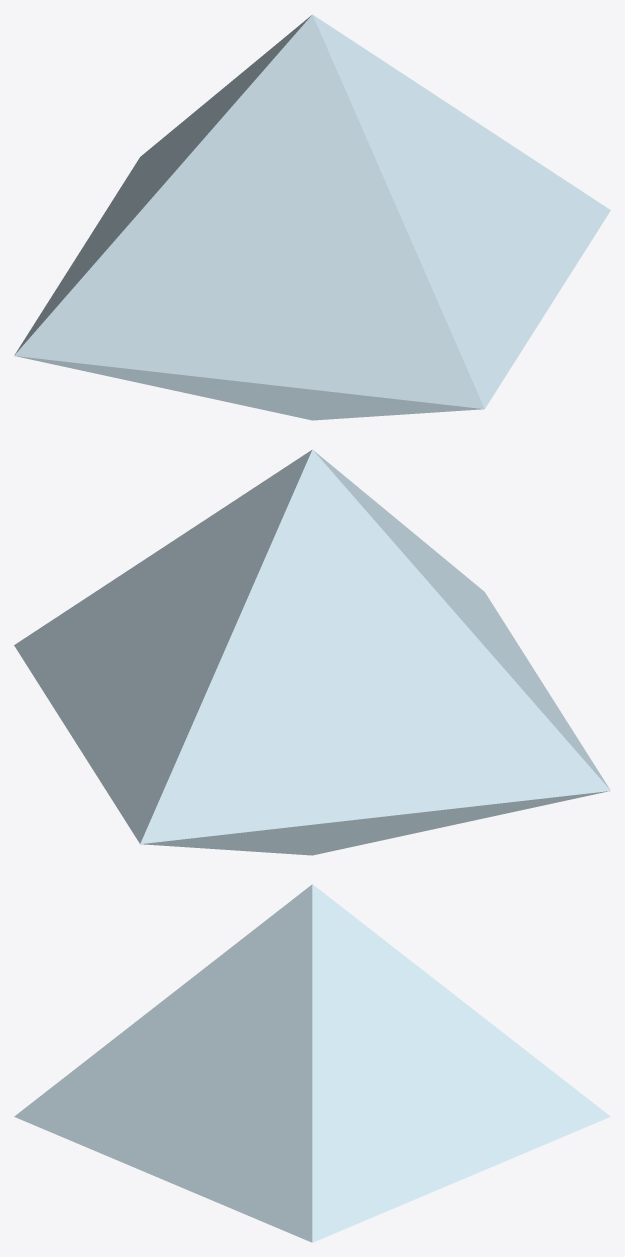
File: traffic-neutral.glb
The picture shows the model from 3 angles, top to bottom: view 1: azimuth 30°, elevation 25°; view 2: azimuth 150°, elevation 25°; view 3: azimuth 270°, elevation 25°; orthographic projection. The views are drawn at different scales.
Parts seen in each view (by area): view 1: traffic-neutral; view 2: traffic-neutral; view 3: traffic-neutral.
Boxes of the visible parts, x1,y1,x2,y2 form: traffic-neutral: (14, 14, 610, 420); traffic-neutral: (14, 449, 610, 855); traffic-neutral: (14, 884, 610, 1242).
Size of the model in its own units: 1 by 0.65 by 1.
